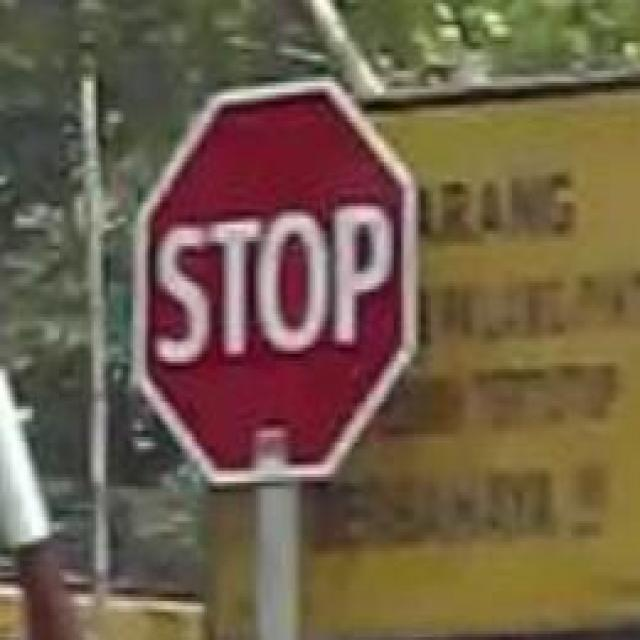traffic sign: (143, 92, 412, 480)
